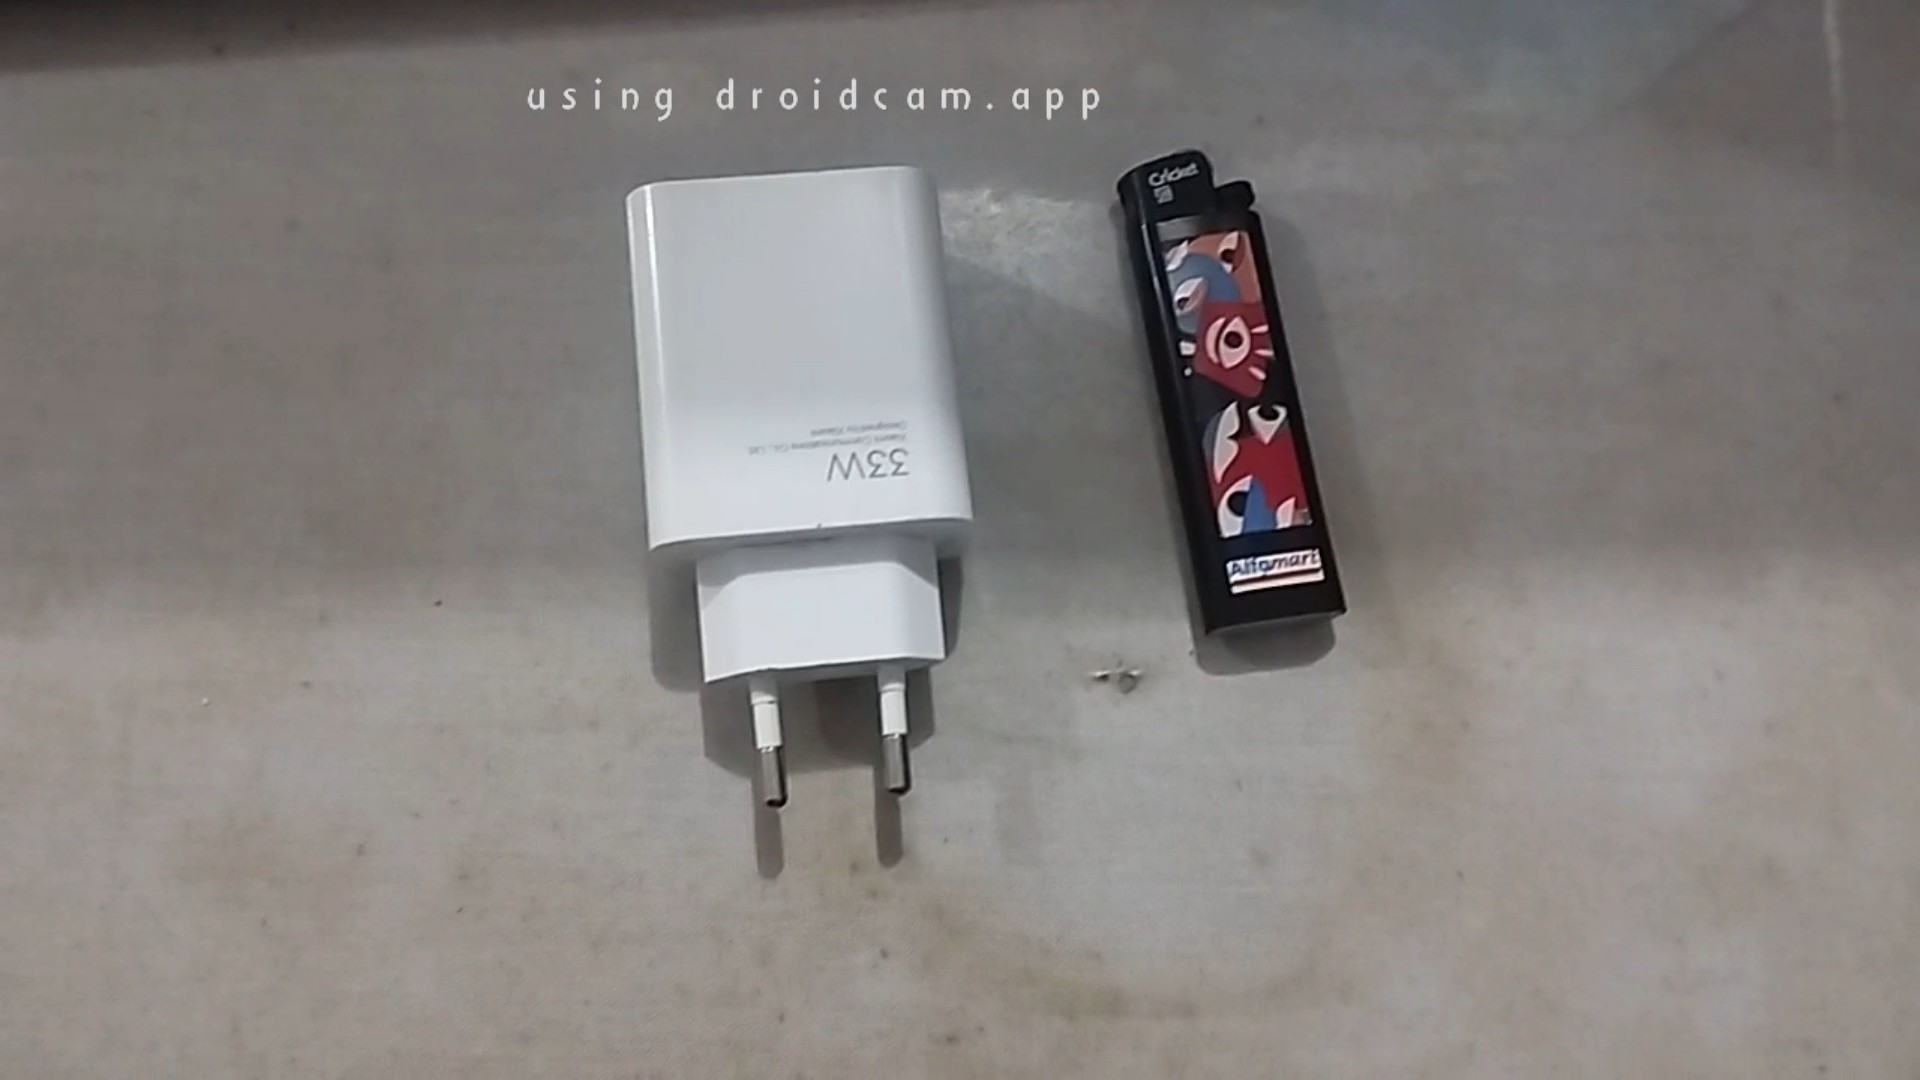adapter: (613, 175, 952, 827)
korek: (1113, 160, 1273, 658)
